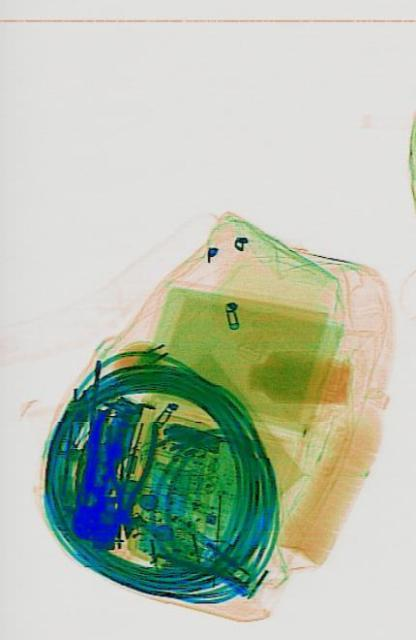Pliers: (100, 420, 157, 538)
